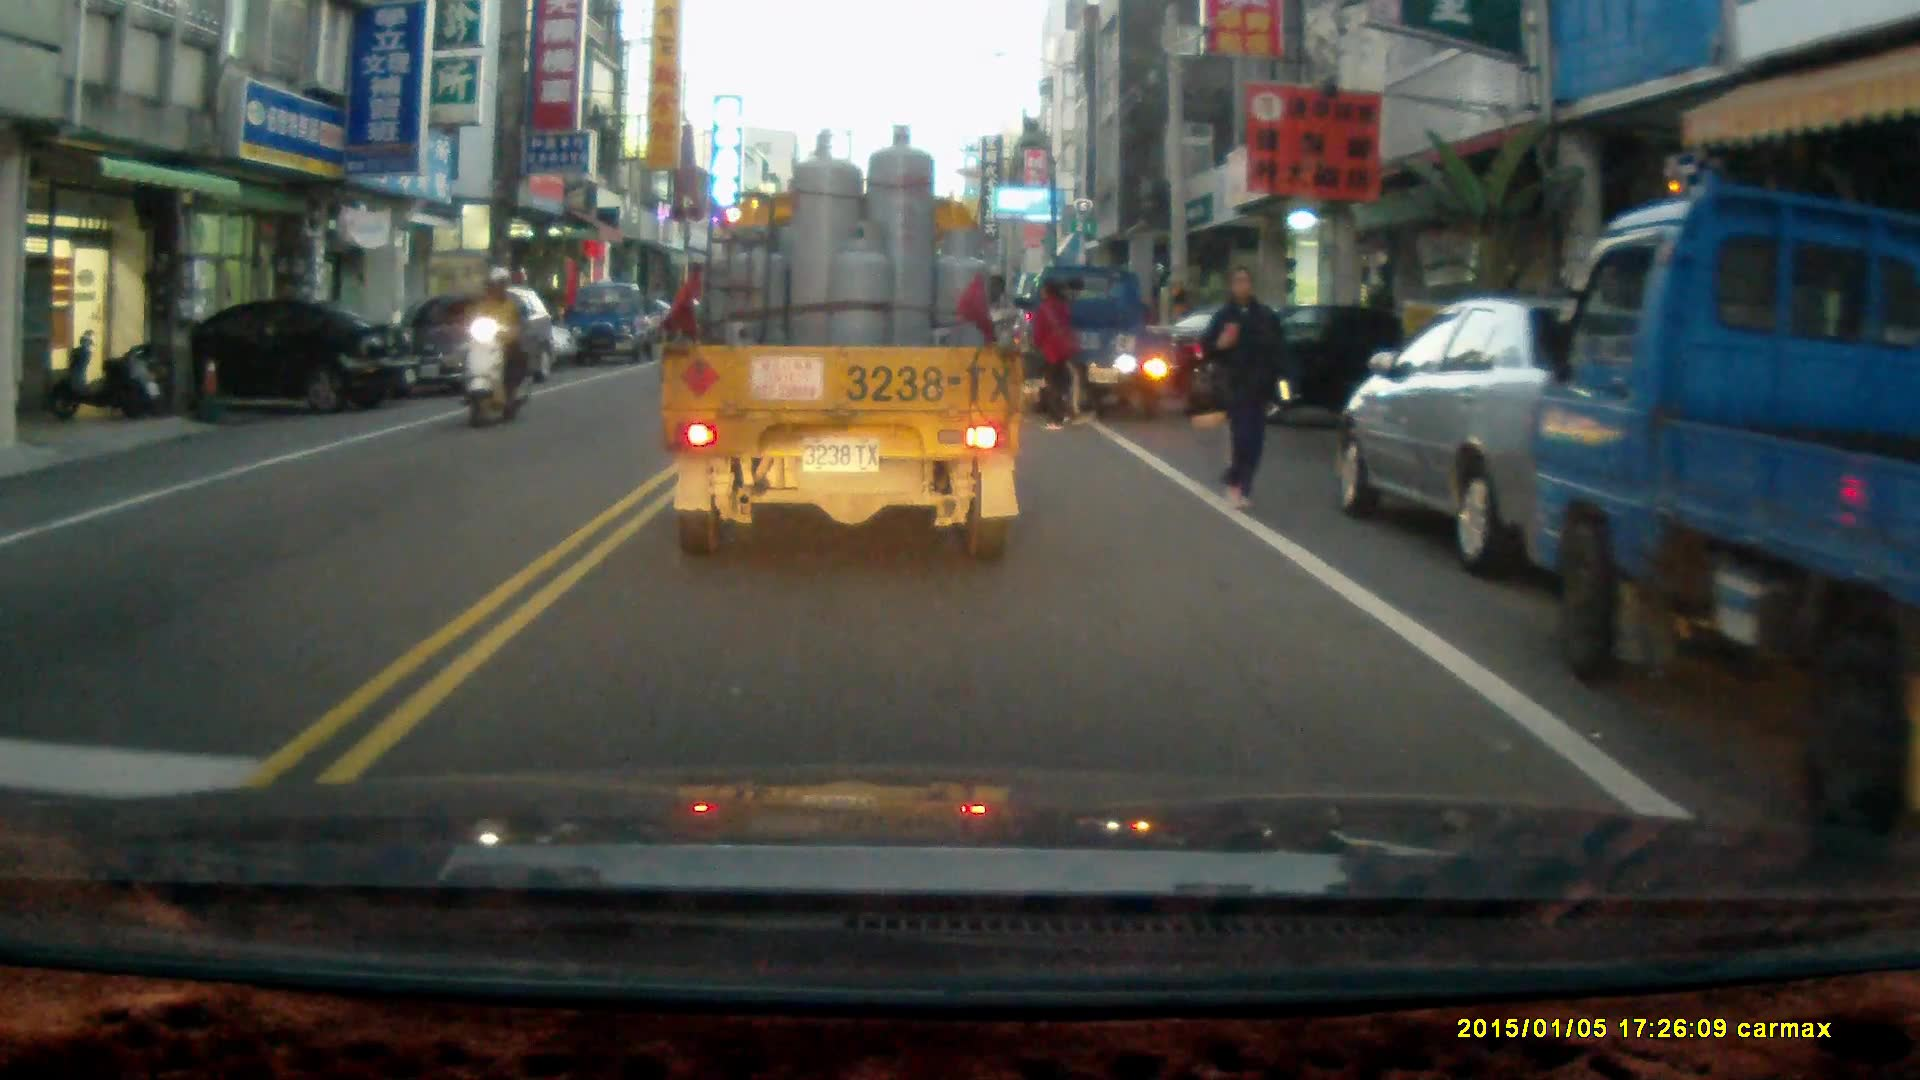pedestrian: (1198, 264, 1298, 514), (1025, 275, 1077, 425)
rider: (459, 265, 533, 431)
vehicle: (1530, 176, 1920, 816), (663, 124, 1028, 568), (1336, 294, 1697, 579), (1168, 297, 1470, 439), (98, 295, 413, 415), (1015, 261, 1177, 418), (403, 288, 557, 397), (569, 279, 666, 367)
